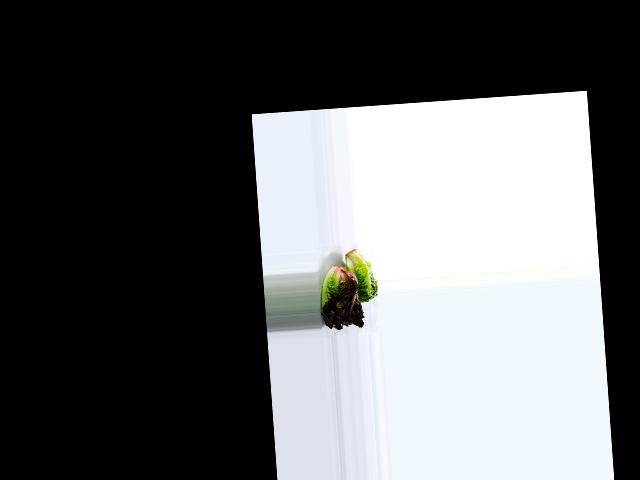lettuce: (342, 245, 379, 304)
